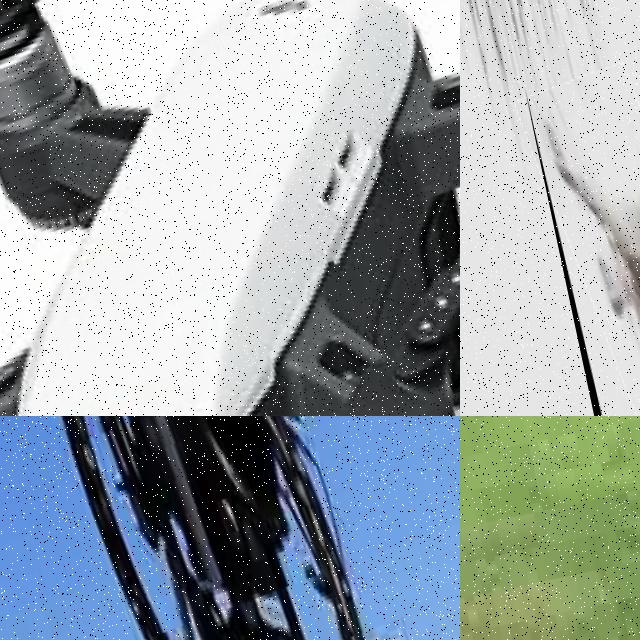drone: (0, 0, 460, 416), (0, 416, 460, 640), (524, 56, 640, 416)
